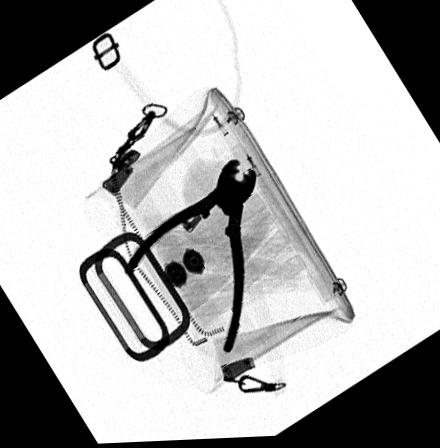Pliers: (123, 161, 256, 357)
